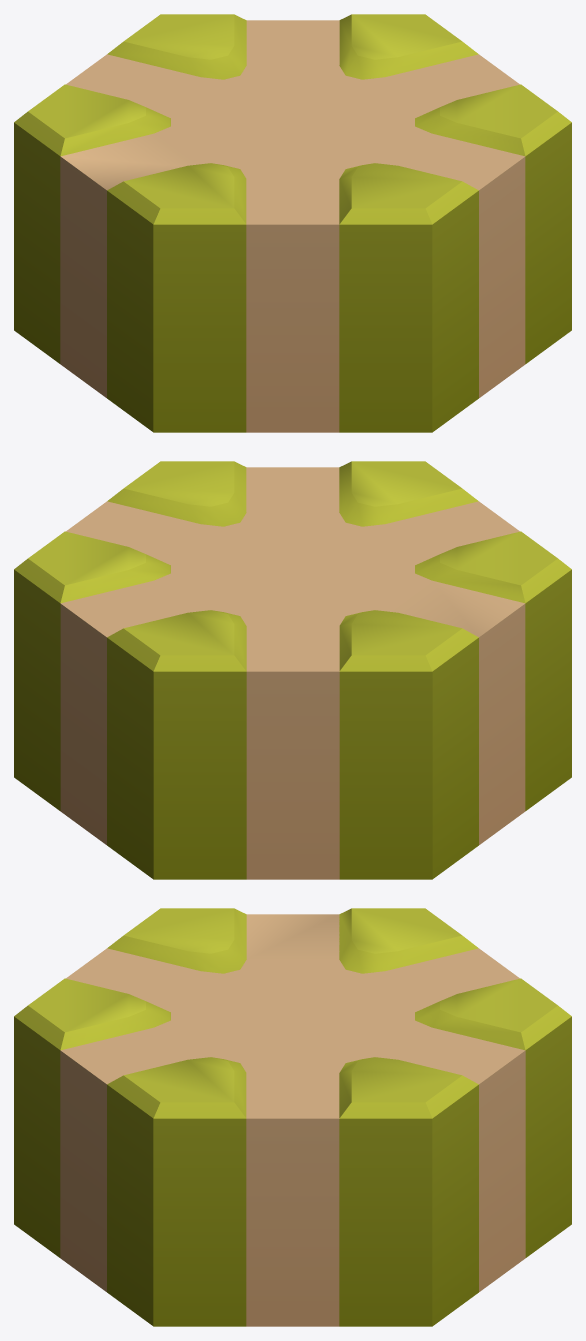
File: hex_road_L.glb
3 renders of one model, top to bottom at view 1: azimuth 30°, elevation 25°; view 2: azimuth 150°, elevation 25°; view 3: azimuth 270°, elevation 25°, orthographic.
Parts seen in each view (by area): view 1: hex_road_L; view 2: hex_road_L; view 3: hex_road_L.
Part boxes in pixels (bbox=[...]): hex_road_L: bbox=[14, 14, 571, 432]; hex_road_L: bbox=[14, 461, 571, 879]; hex_road_L: bbox=[14, 908, 571, 1326].
Bounding box in the file's own units: 2 × 1 × 2.31.
1 material, 1 textured.
